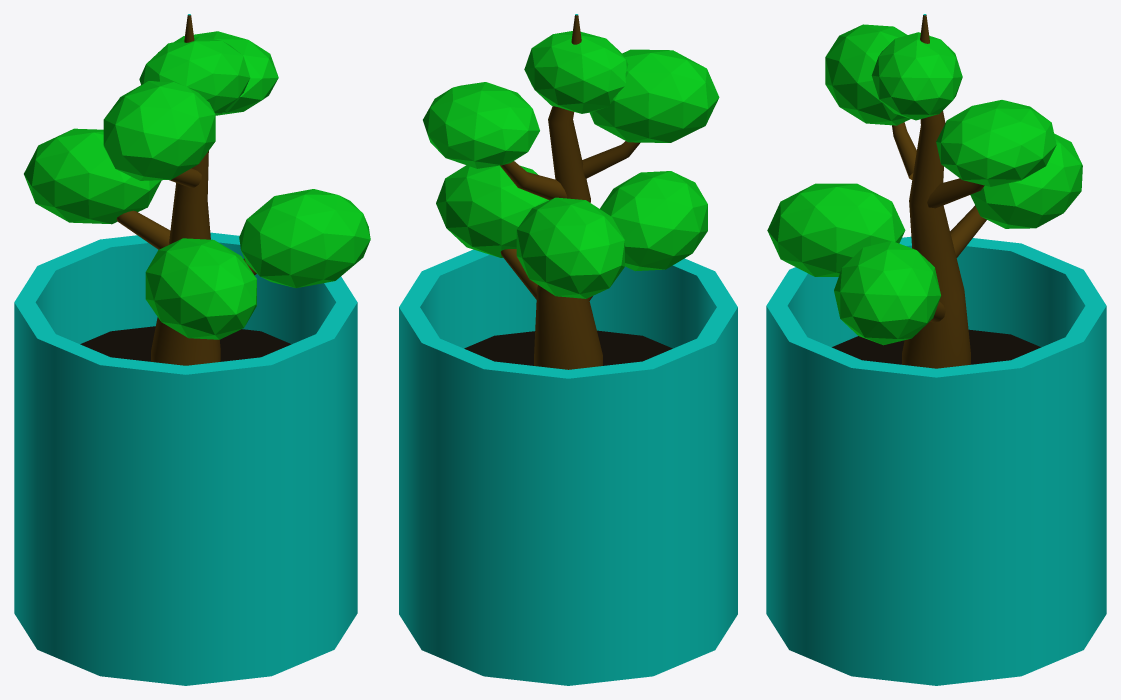
The model's file is planta_1.fbx.
3 views of the same model, side by side, from view 1: azimuth 30°, elevation 25°; view 2: azimuth 150°, elevation 25°; view 3: azimuth 270°, elevation 25° (orthographic).
Visible parts, largest first — view 1: tiesto, follaje; view 2: tiesto, follaje; view 3: tiesto, follaje.
Part boxes in pixels (x1,y1,x2,y2): tiesto: (14,14,357,685); follaje: (24,31,370,339); tiesto: (399,14,737,685); follaje: (423,31,719,298); tiesto: (766,14,1106,685); follaje: (767,24,1082,345).
Size of the model in its own units: 20.38 by 38.8 by 20.
